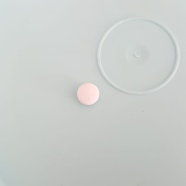Yuvarlak Buskopan: (75, 82, 102, 106)
